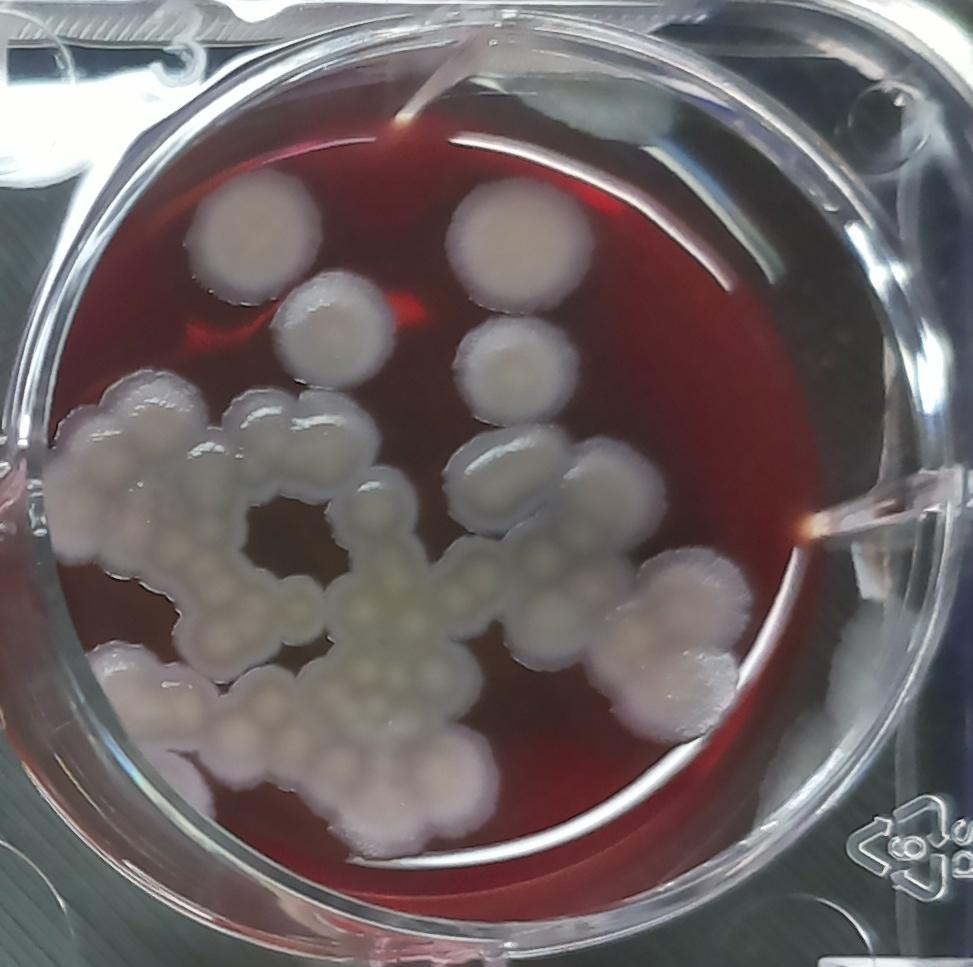bcereus: (433, 160, 606, 319), (172, 160, 329, 315), (273, 384, 382, 508)
